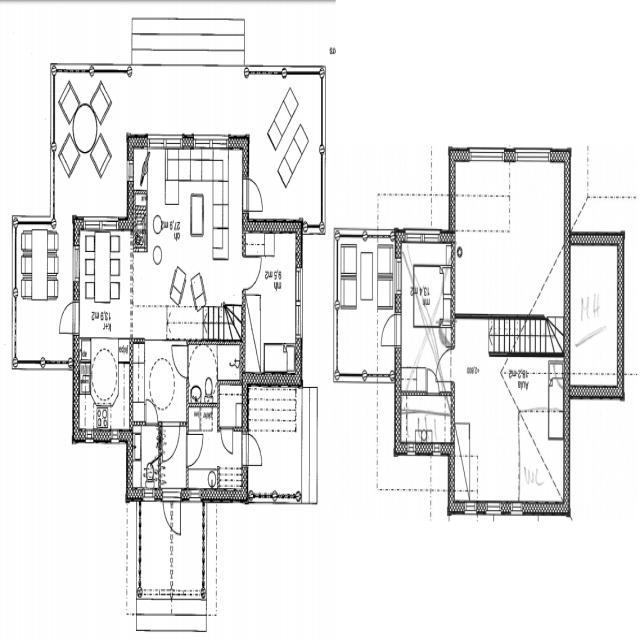door: (242, 172, 267, 219), (160, 418, 181, 464), (242, 249, 265, 291), (161, 491, 182, 535), (243, 428, 265, 470), (55, 298, 79, 336), (378, 309, 400, 350), (185, 426, 206, 468), (435, 346, 455, 386), (92, 139, 112, 179), (171, 339, 190, 379), (217, 420, 236, 458), (422, 363, 441, 396), (144, 398, 158, 427)
window: (402, 222, 446, 248), (511, 140, 552, 167), (190, 129, 230, 156), (466, 139, 506, 165), (80, 210, 124, 232), (293, 262, 305, 341), (146, 129, 182, 150), (478, 497, 504, 523), (459, 498, 483, 523), (338, 366, 369, 385), (302, 216, 324, 238), (105, 428, 126, 448), (141, 485, 159, 504), (81, 429, 96, 449), (188, 487, 204, 505), (404, 441, 418, 459)
zone: (449, 154, 568, 326), (138, 146, 246, 279), (448, 343, 521, 511), (333, 226, 398, 380), (513, 349, 567, 506), (245, 225, 301, 376), (569, 234, 620, 394), (402, 232, 453, 392), (269, 66, 322, 208), (53, 64, 118, 178), (246, 376, 302, 505), (15, 220, 66, 348), (77, 228, 134, 334), (75, 334, 130, 433), (128, 336, 188, 422), (396, 390, 452, 454), (128, 420, 161, 492), (218, 344, 245, 431), (187, 340, 219, 407)
